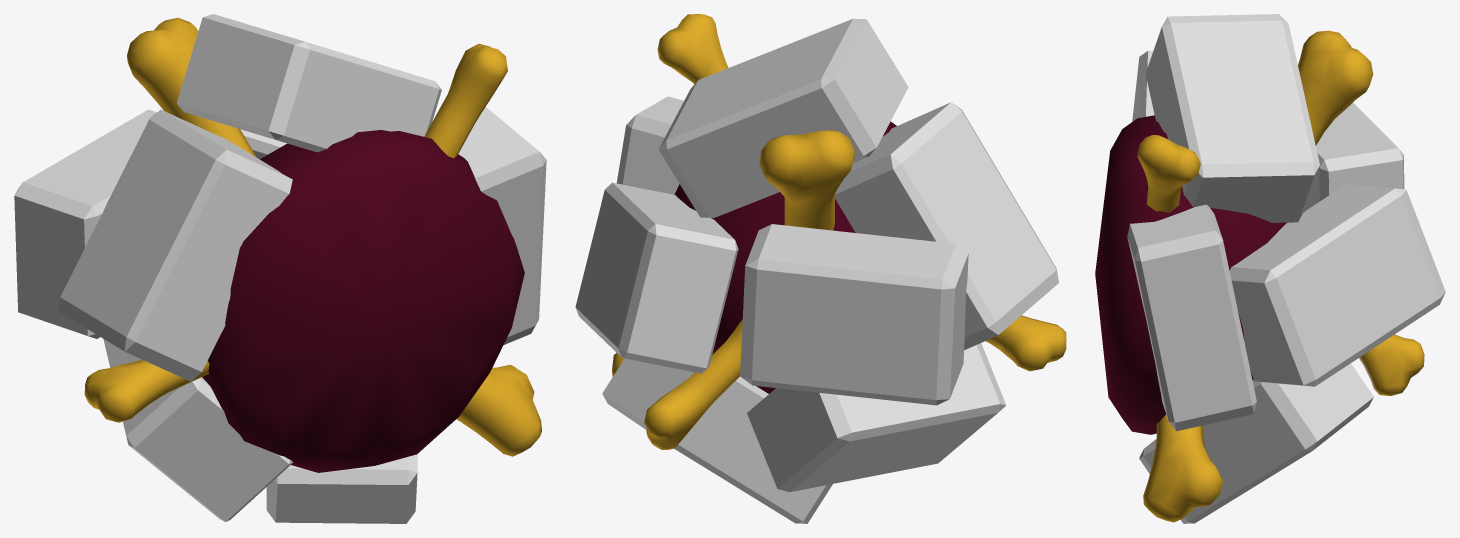
Rendered from Rubble3.fbx.
3 renders of one model, left to right at view 1: azimuth 30°, elevation 25°; view 2: azimuth 150°, elevation 25°; view 3: azimuth 270°, elevation 25°, orthographic. The views are drawn at different scales.
Visible parts, largest first — view 1: Icosphere.002; view 2: Icosphere.002; view 3: Icosphere.002.
Boxes of the visible parts, bbox=[...] form: Icosphere.002: bbox=[14, 14, 546, 523]; Icosphere.002: bbox=[575, 14, 1066, 523]; Icosphere.002: bbox=[1095, 14, 1445, 523].
Bounding box in the file's own units: 1.07 × 1.15 × 0.8044.
